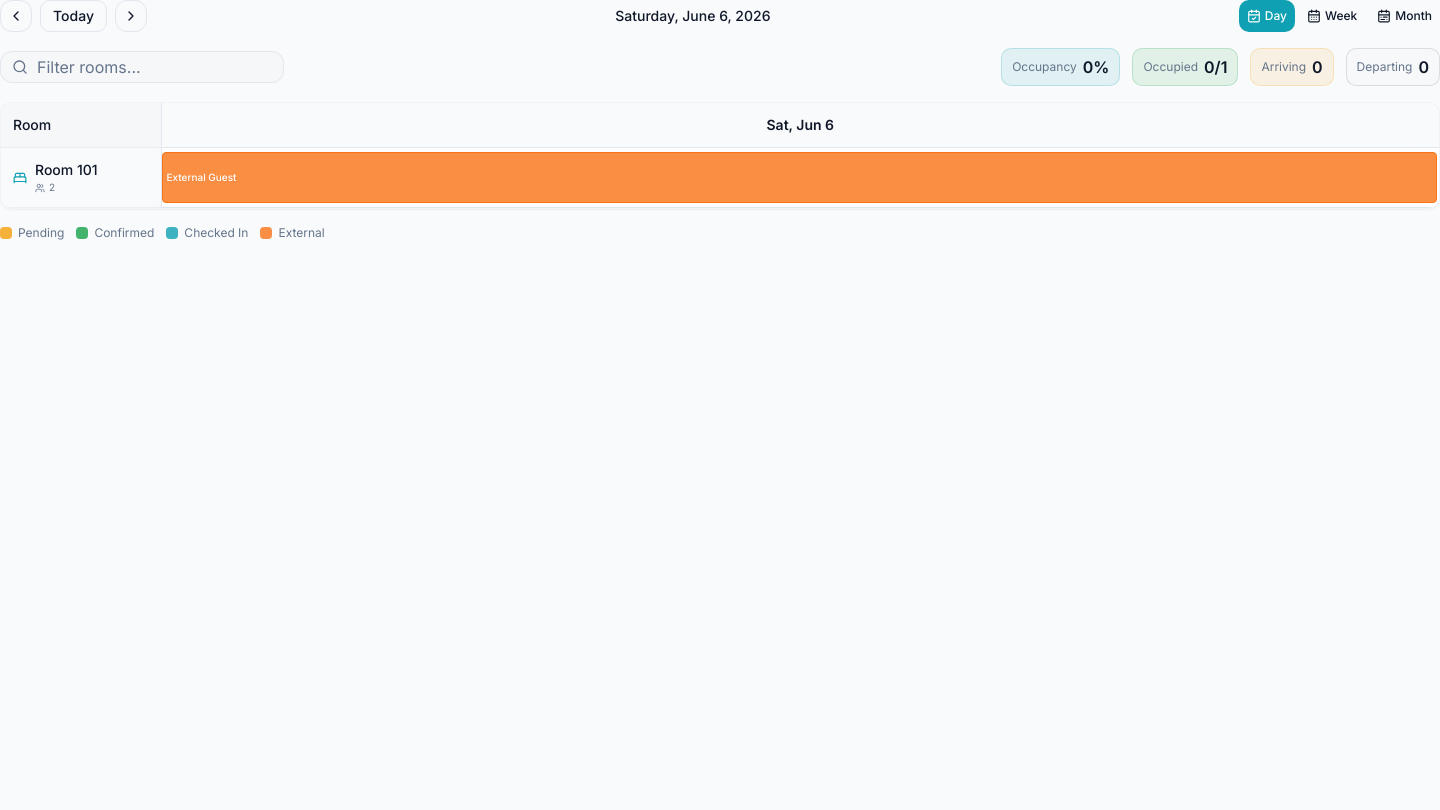
AvailabilityTabContent targeted behaviors › external calendar bookings are view-only in booking details
The image size is (1440, 810).
Click the button with aria-label "Open booking External Guest".
click(202, 177)  # box [162,152,1437,203]
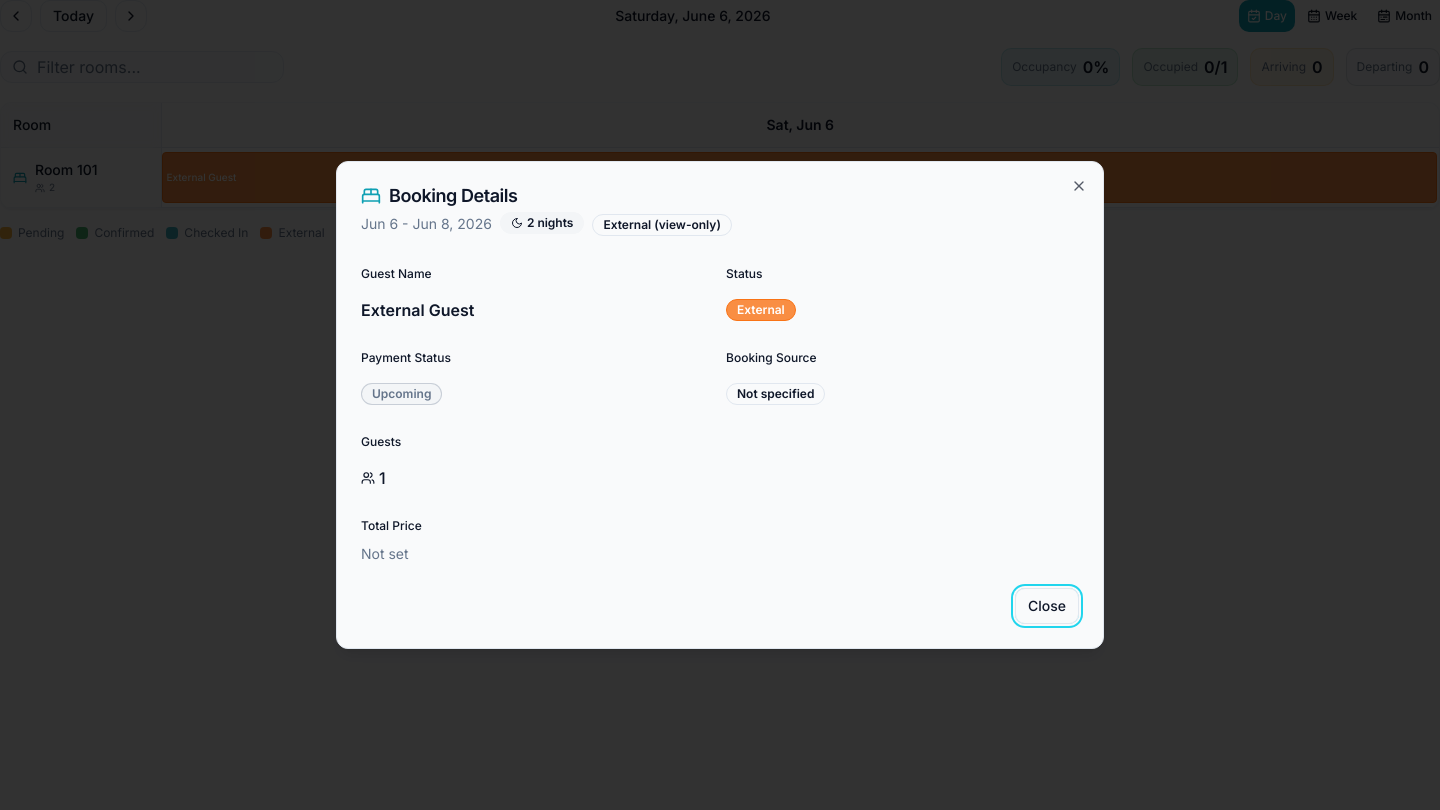
expect the text "External (view-only)" is shown: met, box [592,214,732,236]
